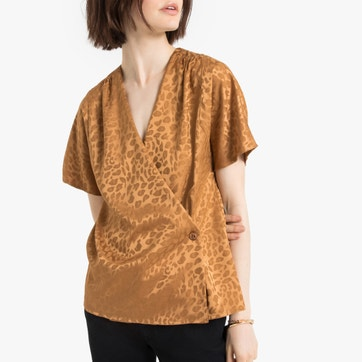C_short blouse: (63, 49, 257, 325)
